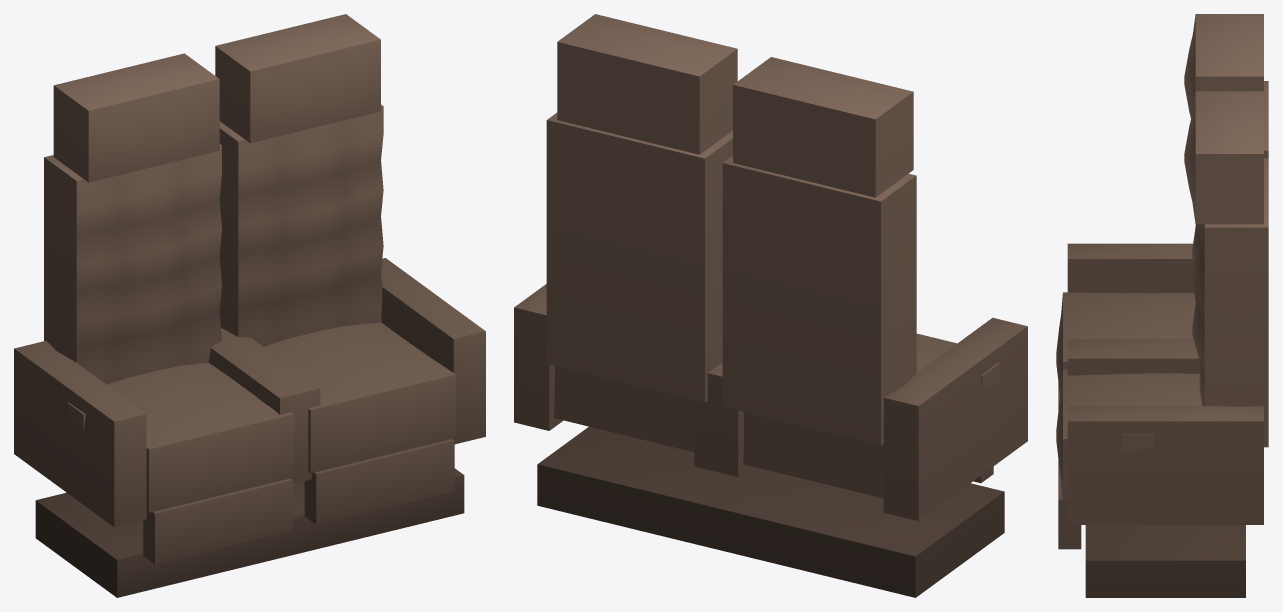
The model's file is recliner_pair_lod1.glb.
The picture shows the model from 3 angles, left to right: view 1: azimuth 30°, elevation 25°; view 2: azimuth 150°, elevation 25°; view 3: azimuth 270°, elevation 25°; orthographic projection. The views are drawn at different scales.
Visible parts, largest first — view 1: ReclinerPair_LOD1; view 2: ReclinerPair_LOD1; view 3: ReclinerPair_LOD1.
Boxes of the visible parts, bbox=[...] form: ReclinerPair_LOD1: bbox=[14, 14, 485, 597]; ReclinerPair_LOD1: bbox=[514, 14, 1027, 597]; ReclinerPair_LOD1: bbox=[1056, 14, 1268, 597].
Size of the model in its own units: 1.88 by 2.11 by 0.9293.
